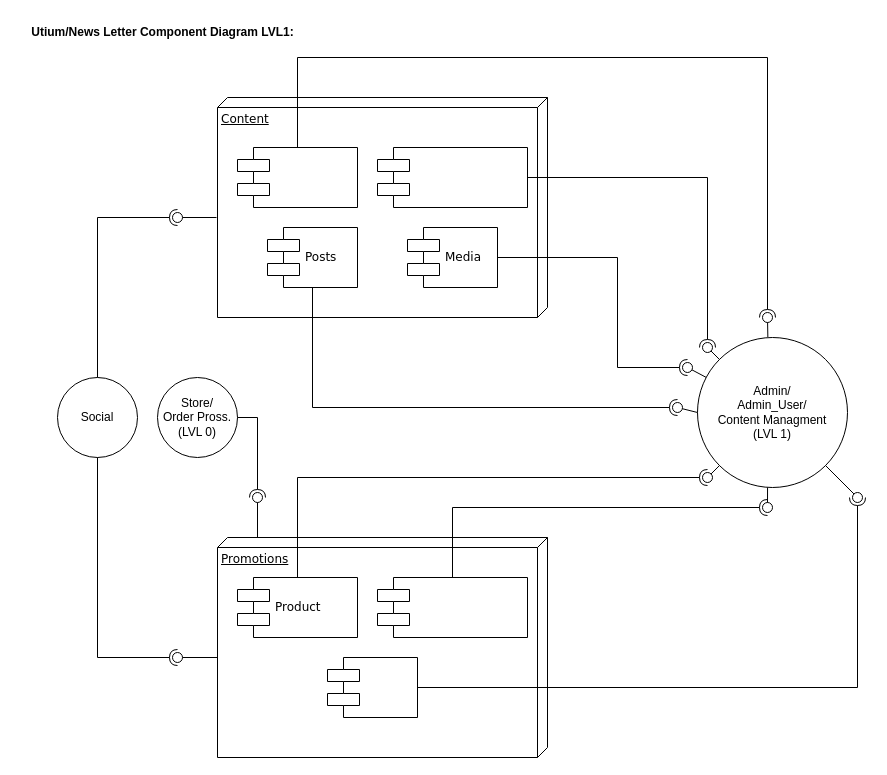
Image size: 887x775. Some labels were removed from this diagram. The box of each missing label's shape, as (x1, y1, x2, y2) in pixels:
Announcements: (376, 146, 528, 208)
Courses: (326, 656, 418, 718)
News Letter: (236, 146, 358, 208)
Subscribtions: (376, 576, 528, 638)
